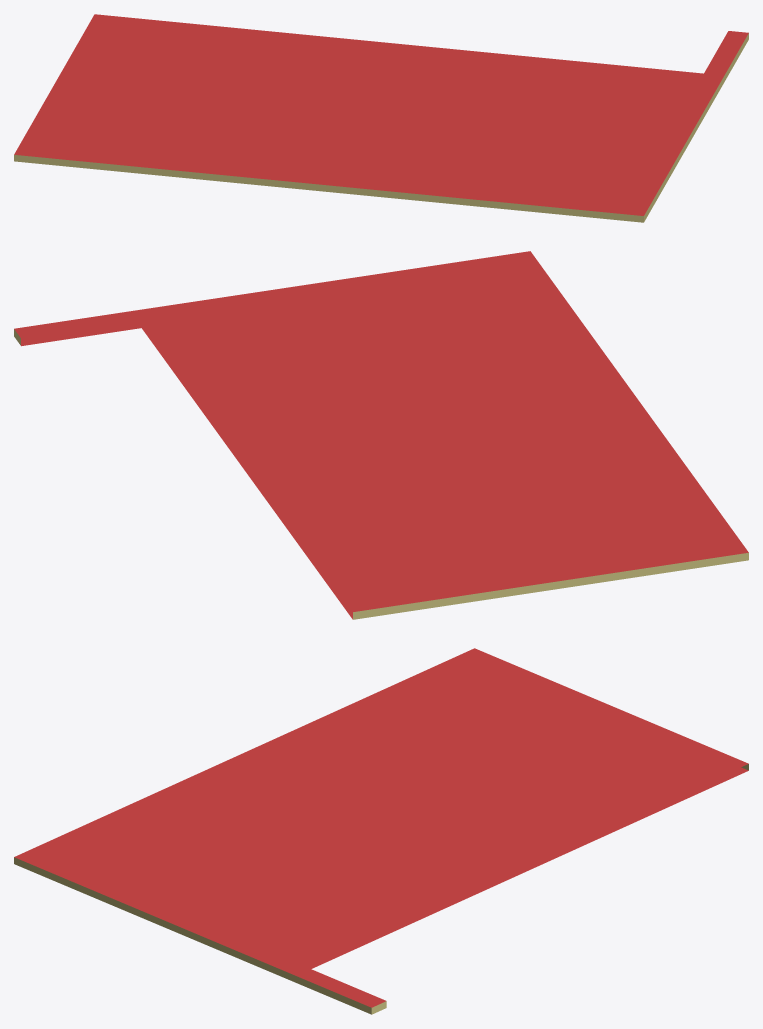
3 views of the same model, one above another, from view 1: azimuth 30°, elevation 25°; view 2: azimuth 150°, elevation 25°; view 3: azimuth 270°, elevation 25° (orthographic). The views are drawn at different scales.
Size of the model in its own units: 10.81 by 9.6 by 0.241.
